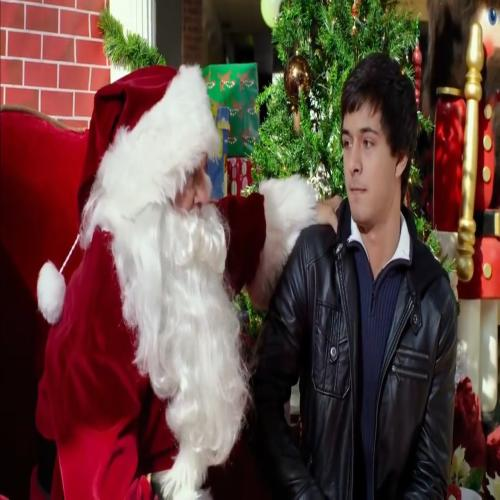Santa: (34, 64, 342, 500)
